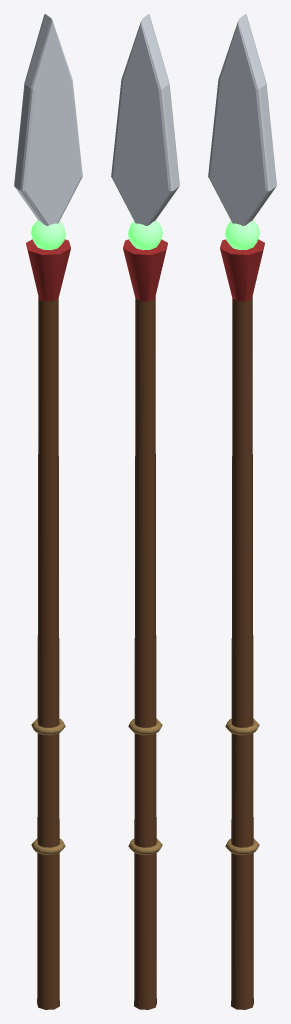
The model's file is spear_f0_65909c90.glb.
The picture shows the model from 3 angles, left to right: view 1: azimuth 30°, elevation 25°; view 2: azimuth 150°, elevation 25°; view 3: azimuth 330°, elevation 25°; orthographic projection.
Visible parts, largest first — view 1: m0_ow80_, m1_ow80_, m3_ow80_, m2_, m4_ow80_; view 2: m0_ow80_, m1_ow80_, m3_ow80_, m2_, m4_ow80_; view 3: m0_ow80_, m1_ow80_, m3_ow80_, m2_, m4_ow80_.
Boxes of the visible parts, x1,y1,x2,y2 form: m0_ow80_: (37,296,59,1009); m1_ow80_: (14,14,82,225); m3_ow80_: (26,239,70,301); m2_: (31,220,65,250); m4_ow80_: (31,718,65,854); m0_ow80_: (134,296,156,1009); m1_ow80_: (111,14,179,225); m3_ow80_: (123,239,167,301); m2_: (128,220,162,250); m4_ow80_: (128,718,162,854); m0_ow80_: (231,296,253,1009); m1_ow80_: (208,14,276,225); m3_ow80_: (220,239,264,301); m2_: (225,220,259,250); m4_ow80_: (225,718,259,854).
Bounding box in the file's own units: 0.2447 × 3.72 × 0.16.
